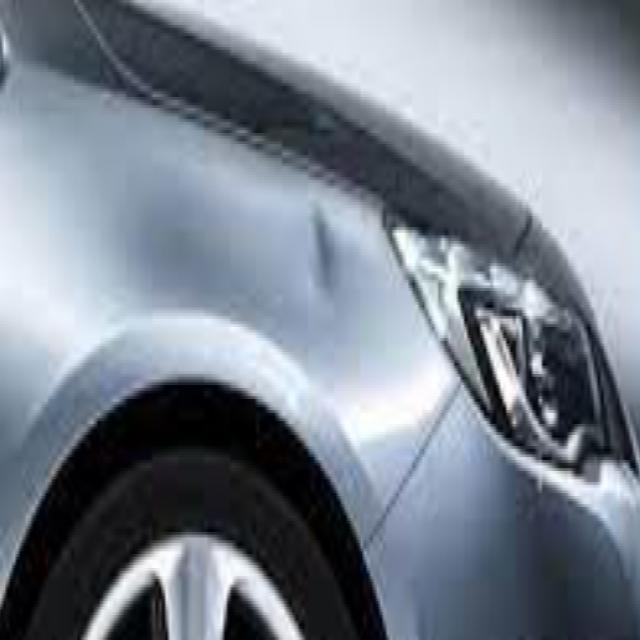dents: (300, 195, 353, 330)
